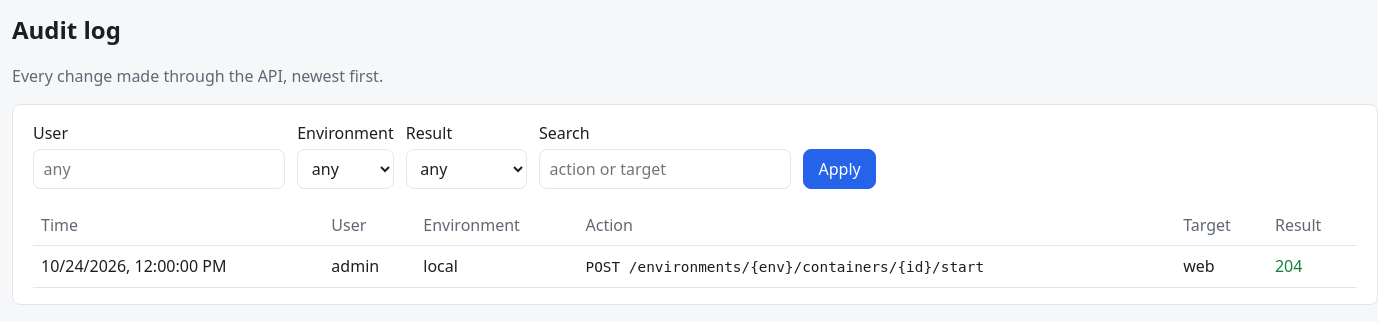
Test: AuditView › filters
The width and height of the screenshot is (1378, 322).
Step 1. Type " bob " into the field named "user" → (159, 169), box [33, 149, 285, 189]
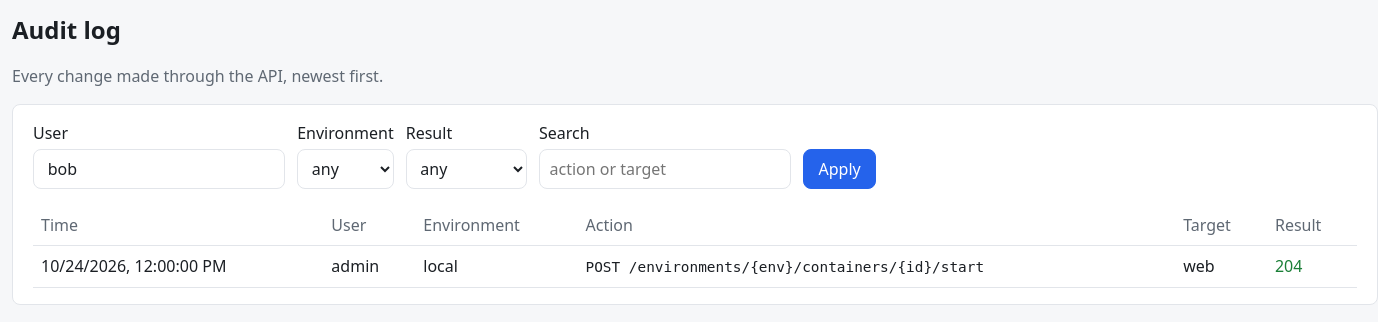
Step 2. Type "volumes" into the field named "q" → (665, 169), box [539, 149, 791, 189]
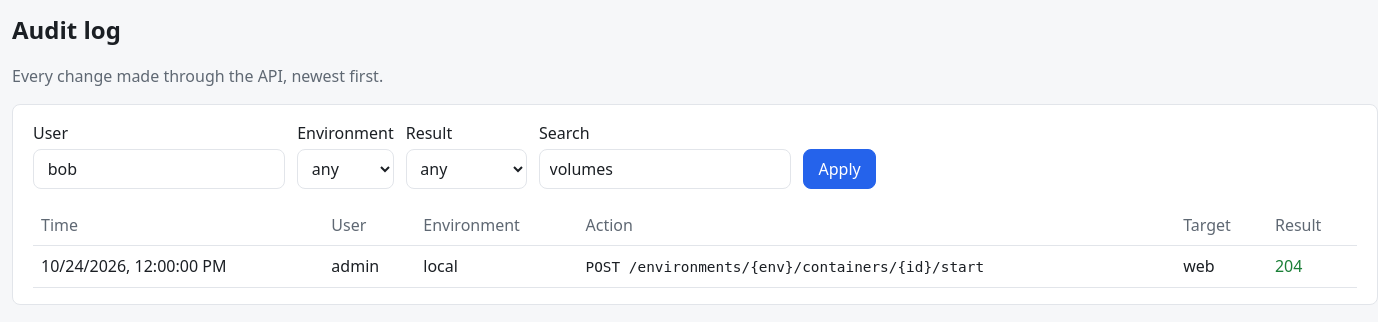
Step 3. Select "failed" in the dropdown named "result" → (466, 169), box [406, 149, 527, 189]
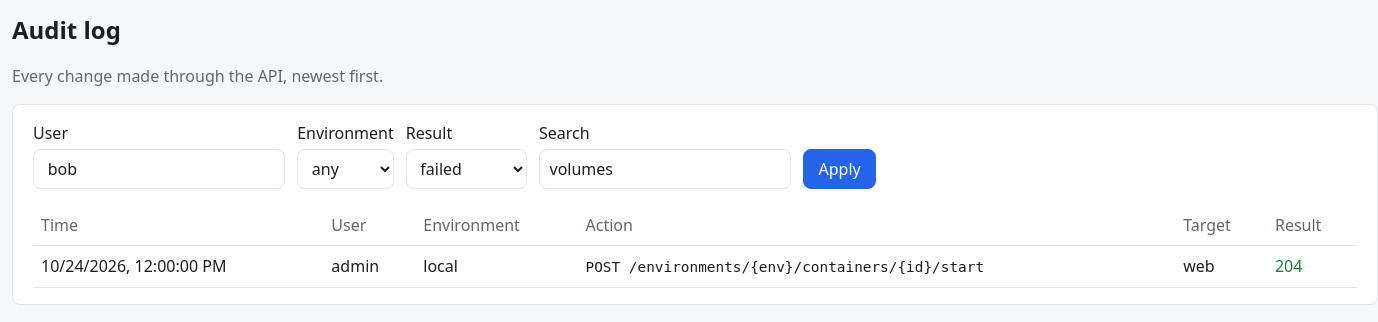
Step 4. Submit the form, box [33, 122, 876, 189]
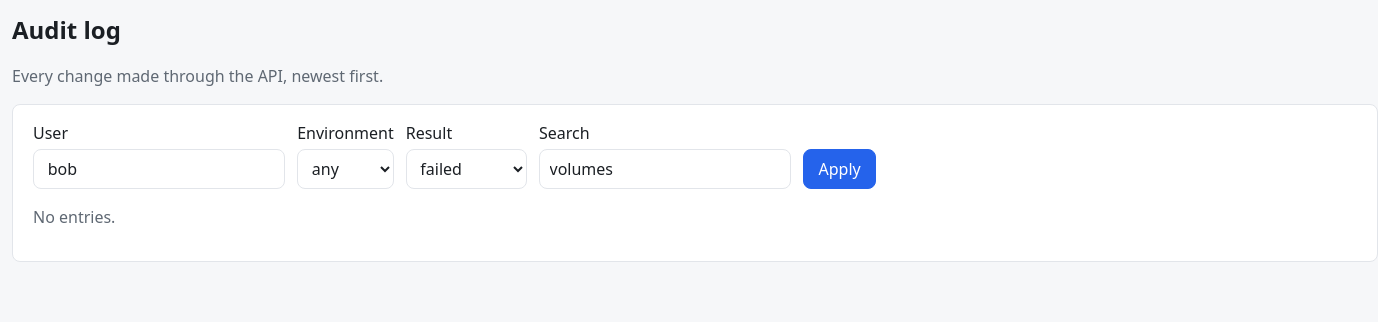
Result: the text "No entries." is shown at [33, 206, 115, 228]
